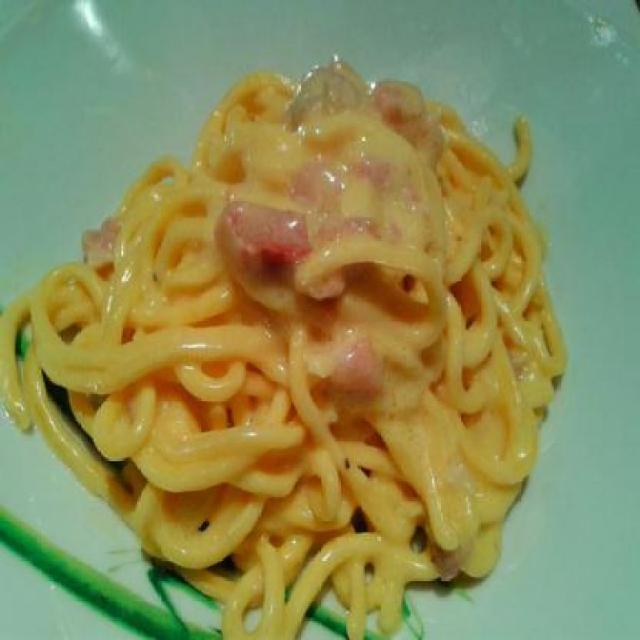Pasta with carbonara sauce: (44, 50, 576, 593)
